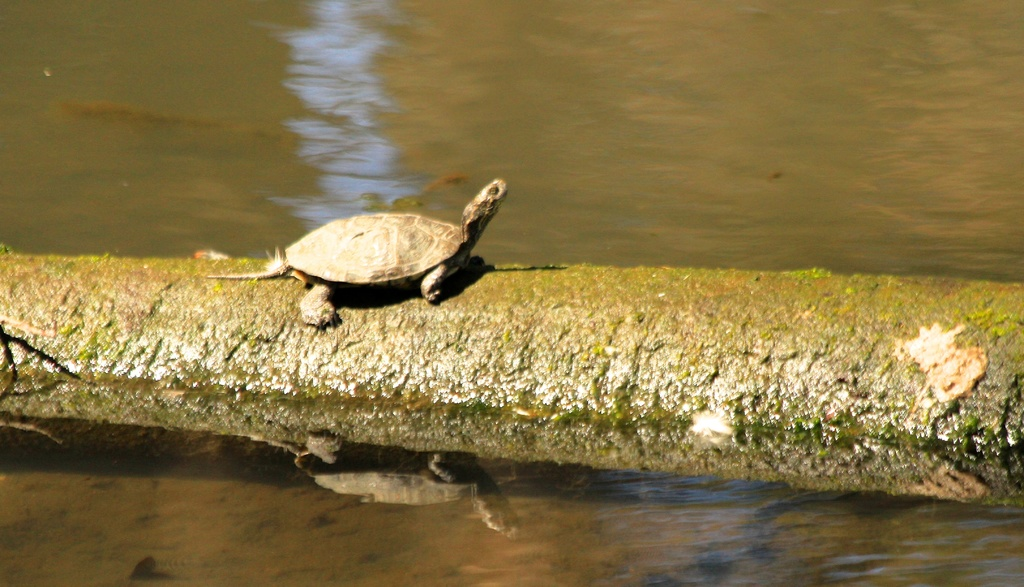Sea turtles: (202, 174, 508, 326)
